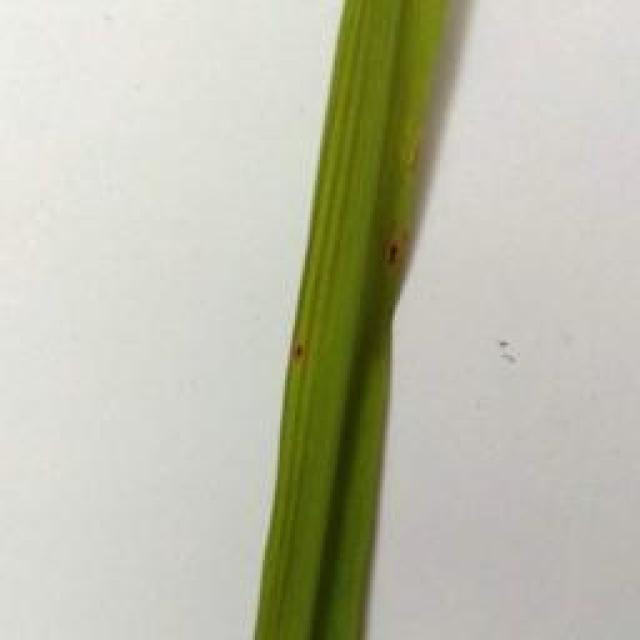Brown_Spot: (371, 214, 424, 282), (291, 331, 328, 394)
